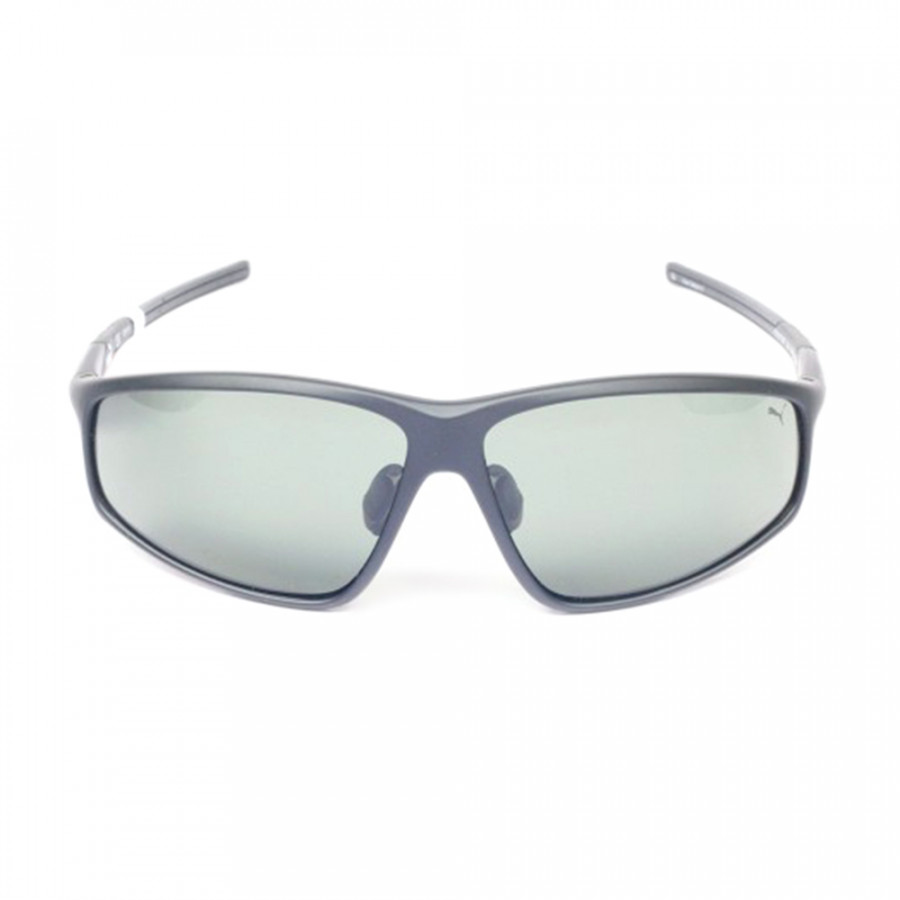Puma: (759, 396, 797, 431)
